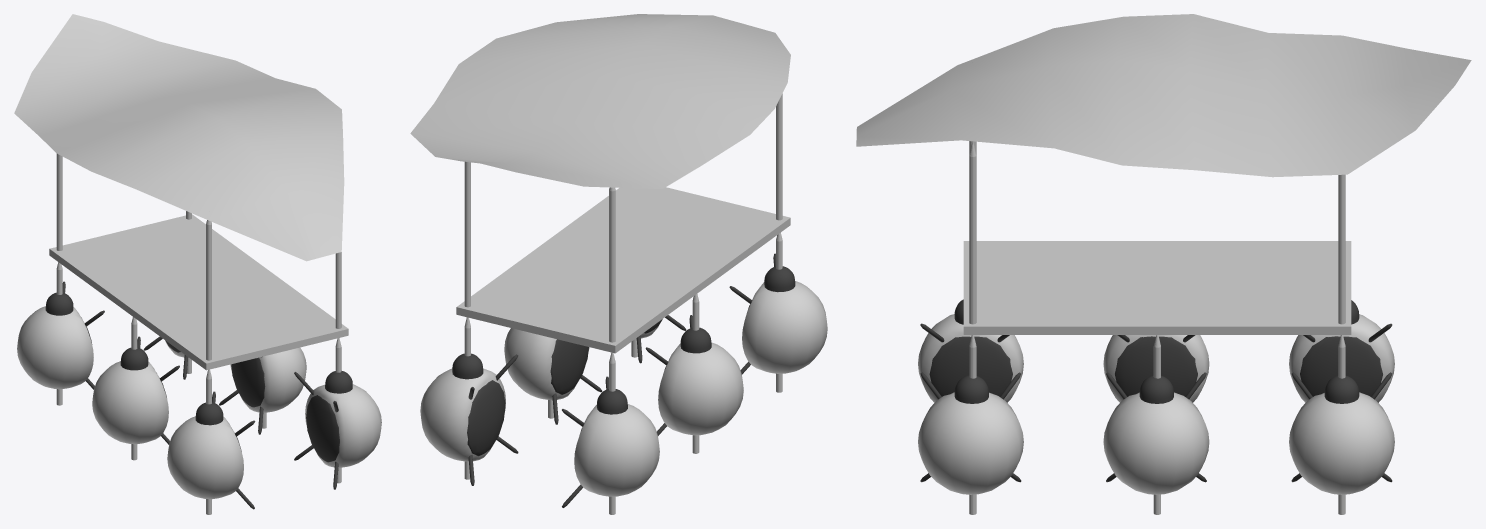
Rendered from HandOut.fbx.
3 views of the same model, side by side, from view 1: azimuth 30°, elevation 25°; view 2: azimuth 150°, elevation 25°; view 3: azimuth 270°, elevation 25° (orthographic). The views are drawn at different scales.
Visible parts, largest first — view 1: Leaf, Cube, Sphere.002, Sphere, Sphere.001, Cylinder.009, Cylinder, Sphere.006; view 2: Leaf, Cube, Sphere.002, Sphere, Cylinder.009, Sphere.001, Cylinder, Sphere.005, Cylinder.005; view 3: Leaf, Cube, Sphere.002, Sphere, Sphere.001, Cylinder.009, Cylinder, Sphere.003, Sphere.004.
Part boxes in pixels (left/top/right/bottom): Leaf: left=14, top=14, right=344, bottom=261; Cube: left=49, top=214, right=348, bottom=370; Sphere.002: left=17, top=306, right=381, bottom=499; Sphere: left=81, top=317, right=339, bottom=462; Sphere.001: left=45, top=292, right=352, bottom=425; Cylinder.009: left=56, top=153, right=341, bottom=360; Cylinder: left=56, top=262, right=341, bottom=514; Sphere.006: left=86, top=355, right=338, bottom=509; Leaf: left=410, top=14, right=790, bottom=188; Cube: left=456, top=187, right=790, bottom=353; Sphere.002: left=420, top=281, right=827, bottom=496; Sphere: left=467, top=305, right=749, bottom=456; Cylinder.009: left=464, top=93, right=782, bottom=342; Sphere.001: left=452, top=266, right=795, bottom=414; Cylinder: left=464, top=232, right=782, bottom=514; Sphere.005: left=468, top=335, right=750, bottom=507; Cylinder.005: left=548, top=294, right=699, bottom=453; Leaf: left=856, top=14, right=1471, bottom=177; Cube: left=963, top=241, right=1351, bottom=334; Sphere.002: left=918, top=314, right=1394, bottom=494; Sphere: left=929, top=336, right=1382, bottom=396; Sphere.001: left=954, top=299, right=1359, bottom=403; Cylinder.009: left=969, top=141, right=1345, bottom=324; Cylinder: left=969, top=335, right=1345, bottom=514; Sphere.003: left=997, top=323, right=1392, bottom=399; Sphere.004: left=920, top=323, right=1315, bottom=399.
Size of the model in its own units: 201 by 248 by 333.
